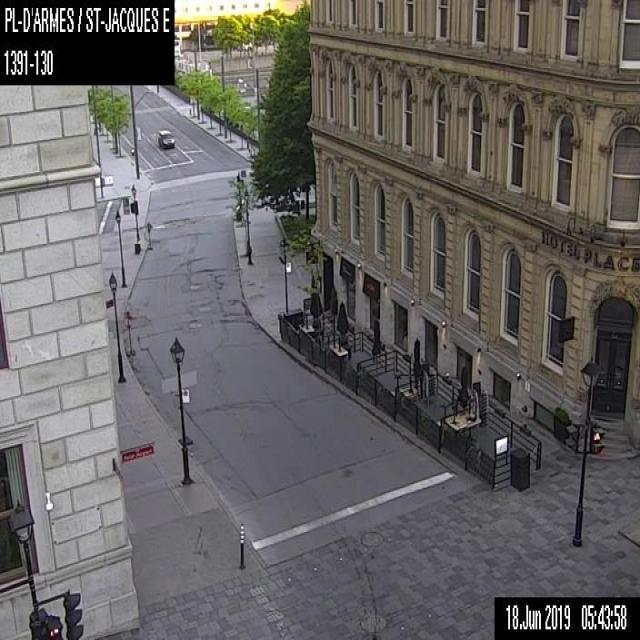vehicle: (157, 128, 175, 147)
